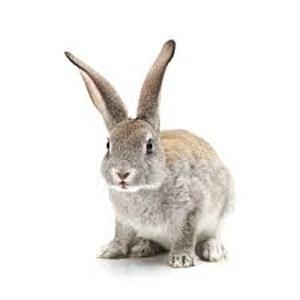rabbit: (65, 40, 233, 267)
